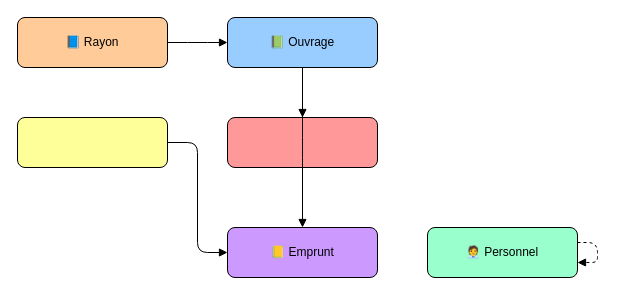
This 623x295 diagram has some shape labels left out. Here are the shapes that lost their labels. From the top down, the box of each, then its label:
(16, 116, 168, 168): 👤 Lecteur
(226, 116, 378, 168): 📕 Auteur
